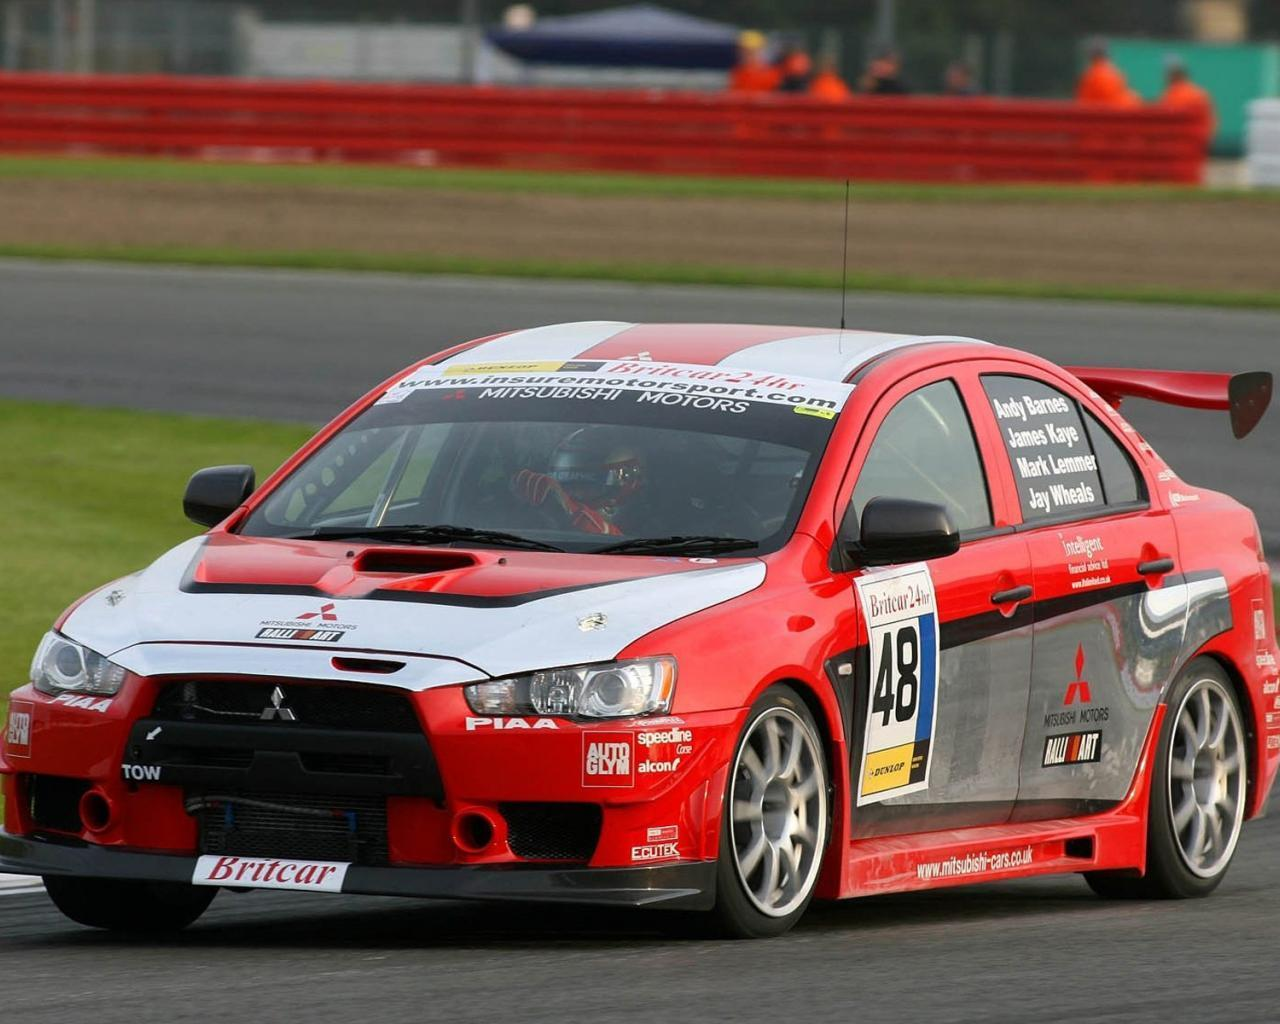car: (10, 290, 1280, 954)
